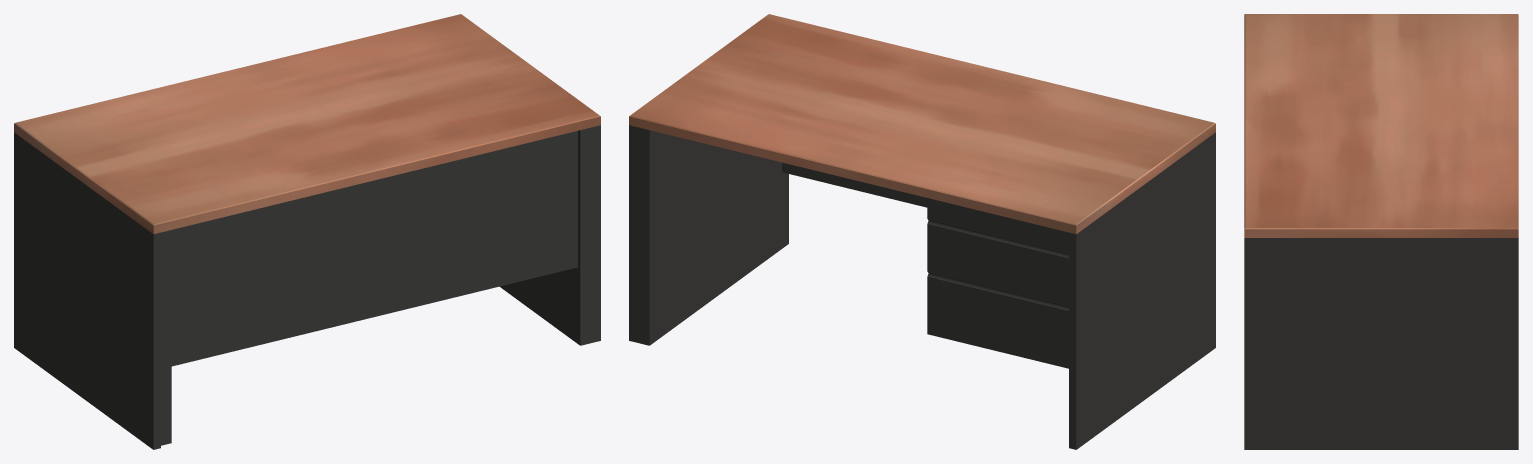
Rendered from Desk.fbx.
3 renders of one model, left to right at view 1: azimuth 30°, elevation 25°; view 2: azimuth 150°, elevation 25°; view 3: azimuth 270°, elevation 25°, orthographic.
Parts seen in each view (by area): view 1: Desk; view 2: Desk; view 3: Desk.
Boxes of the visible parts, bbox=[...] form: Desk: bbox=[14, 14, 600, 449]; Desk: bbox=[629, 14, 1215, 449]; Desk: bbox=[1244, 14, 1518, 449].
Bounding box in the file's own units: 185 × 88.85 × 99.64.
